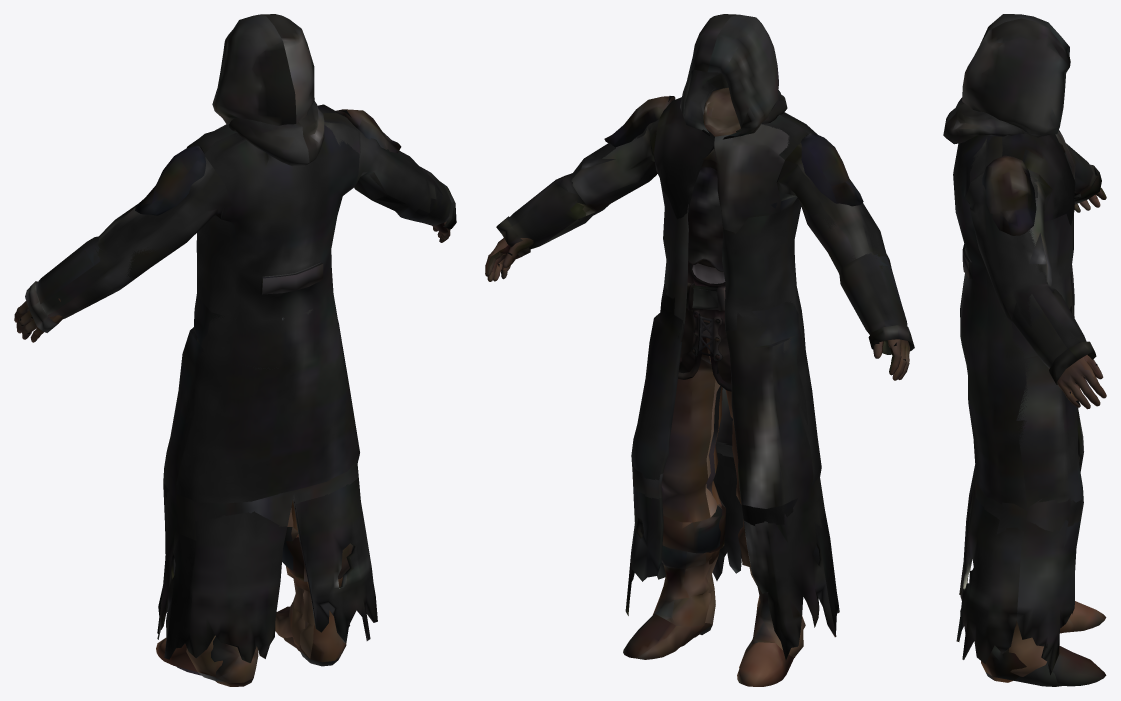
3 renders of one model, left to right at view 1: azimuth 30°, elevation 25°; view 2: azimuth 150°, elevation 25°; view 3: azimuth 270°, elevation 25°, orthographic. The views are drawn at different scales.
Parts seen in each view (by area): view 1: mesh_0; view 2: mesh_0; view 3: mesh_0.
Part boxes in pixels (x1,y1,x2,y2): mesh_0: (14,14,456,686); mesh_0: (485,14,914,686); mesh_0: (943,14,1106,686).
Size of the model in its own units: 50.64 by 73.48 by 17.12.
Materials: 1 (1 with a texture image).
